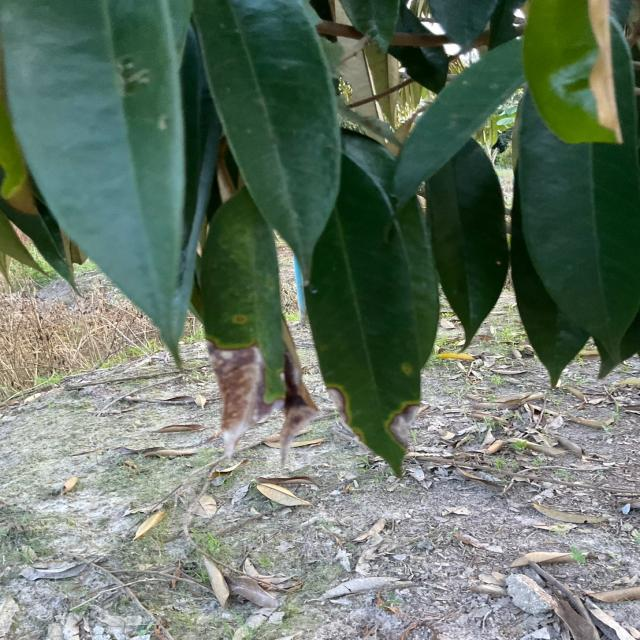Leaf Blight: (196, 187, 315, 463)
